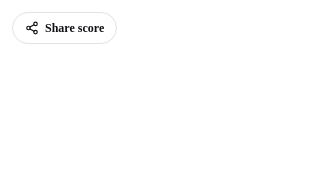
Test: <GameShare /> › closes back to the single button
The image size is (336, 172).
Click the button with aria-label "share the bills at chiefs score" at (65, 28), box [12,12,117,44]
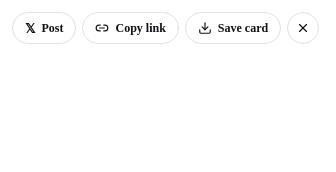
Click the button named "close share options" at (303, 28), box [287,12,319,44]
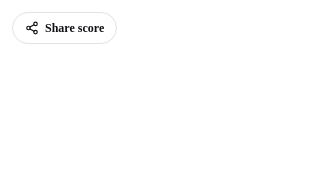
Expected: the button with aria-label "share the bills at chiefs score" is shown, [12,12,117,44]
